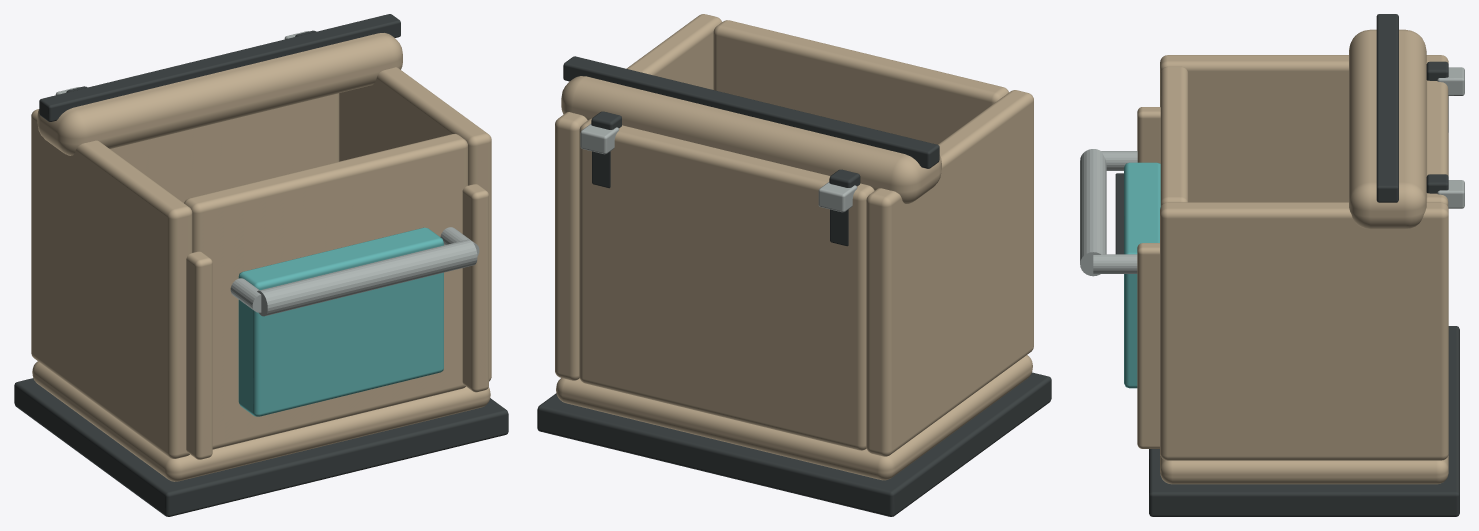
File: indoor-climbing-and-bouldering-gym-indoor-climbing-and-d99f6d41__31546.glb
The picture shows the model from 3 angles, left to right: view 1: azimuth 30°, elevation 25°; view 2: azimuth 150°, elevation 25°; view 3: azimuth 270°, elevation 25°; orthographic projection. The views are drawn at different scales.
Parts seen in each view (by area): view 1: indoor-climbing-and-bouldering-gym-freestanding-chalk-bucket (×4); view 2: indoor-climbing-and-bouldering-gym-freestanding-chalk-bucket (×3); view 3: indoor-climbing-and-bouldering-gym-freestanding-chalk-bucket (×4).
Boxes of the visible parts, x1,y1,x2,y2 form: indoor-climbing-and-bouldering-gym-freestanding-chalk-bucket (×4): (14,14,508,516); indoor-climbing-and-bouldering-gym-freestanding-chalk-bucket (×3): (537,14,1051,516); indoor-climbing-and-bouldering-gym-freestanding-chalk-bucket (×4): (1080,14,1464,516).
Size of the model in its own units: 0.37 by 0.332 by 0.3465.
